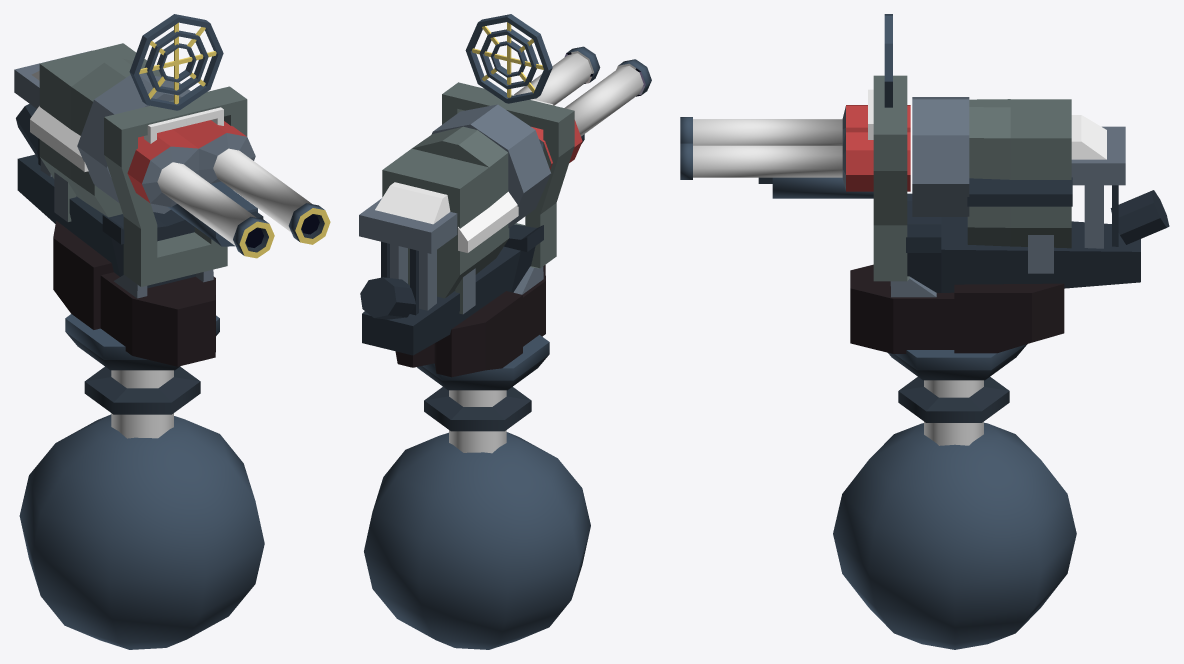
File: Shotgun_Turret.fbx
3 renders of one model, left to right at view 1: azimuth 30°, elevation 25°; view 2: azimuth 150°, elevation 25°; view 3: azimuth 270°, elevation 25°, orthographic. The views are drawn at different scales.
Parts seen in each view (by area): view 1: Turret_Wheel, Turret_Main, Turret_Shotgun, Turret_Sight; view 2: Turret_Main, Turret_Wheel, Turret_Shotgun, Turret_Sight; view 3: Turret_Main, Turret_Wheel, Turret_Shotgun, Turret_Sight.
Boxes of the visible parts, x1,y1,x2,y2 form: Turret_Wheel: (19, 314, 264, 649); Turret_Main: (14, 43, 247, 366); Turret_Shotgun: (127, 107, 330, 258); Turret_Sight: (129, 14, 223, 110); Turret_Main: (359, 82, 574, 377); Turret_Wheel: (364, 335, 590, 649); Turret_Shotgun: (511, 46, 651, 169); Turret_Sight: (465, 14, 552, 103); Turret_Main: (850, 75, 1169, 353); Turret_Wheel: (833, 344, 1076, 649); Turret_Shotgun: (680, 89, 910, 198); Turret_Sight: (884, 14, 892, 107).
Bounding box in the file's own units: 646 × 1819 × 1295.
